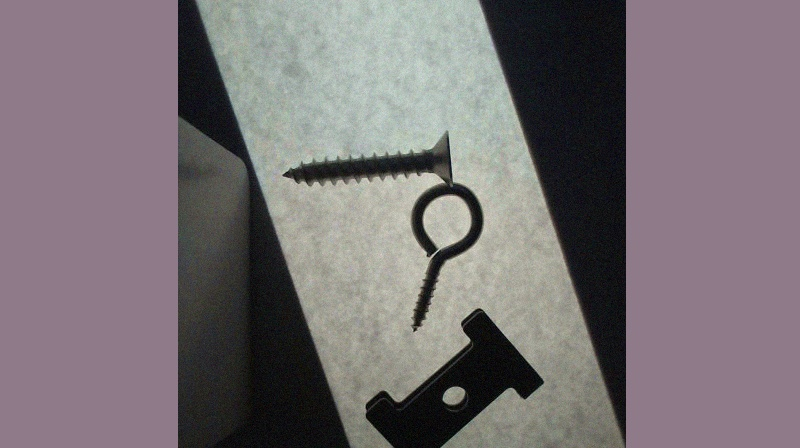O001: (407, 182, 484, 331)
O002: (363, 303, 546, 447)
S001: (279, 129, 456, 192)
